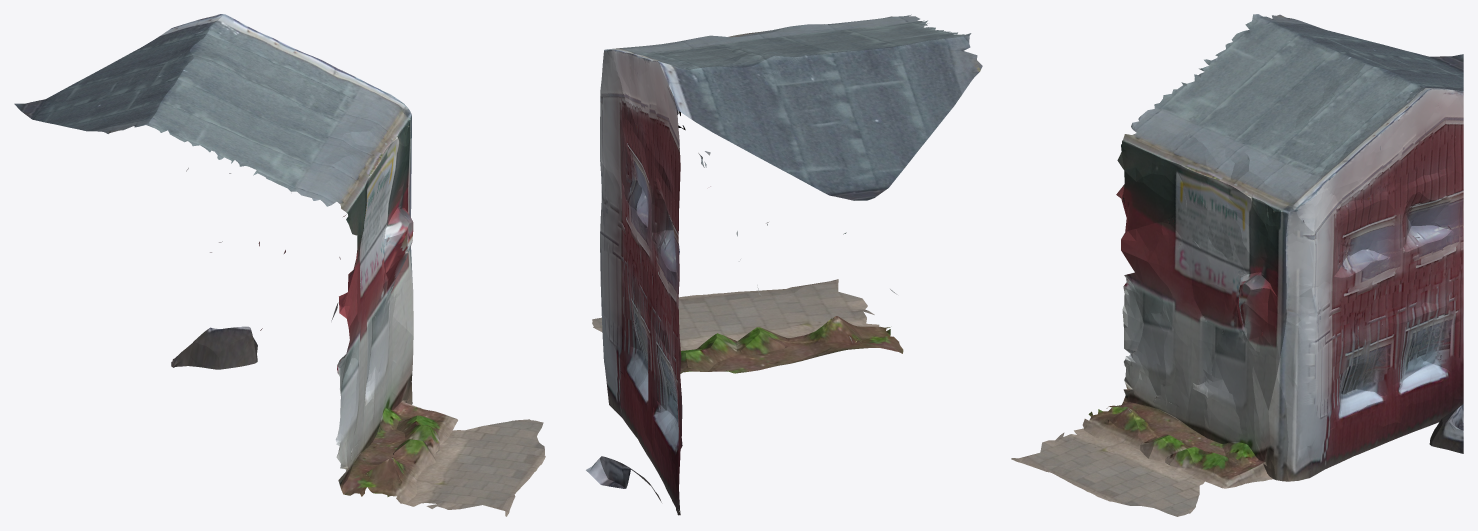
3 renders of one model, left to right at view 1: azimuth 30°, elevation 25°; view 2: azimuth 150°, elevation 25°; view 3: azimuth 270°, elevation 25°, orthographic. The views are drawn at different scales.
Bounding box in the file's own units: 7.03 × 6.33 × 7.63.
Materials: 3 (3 with a texture image).
